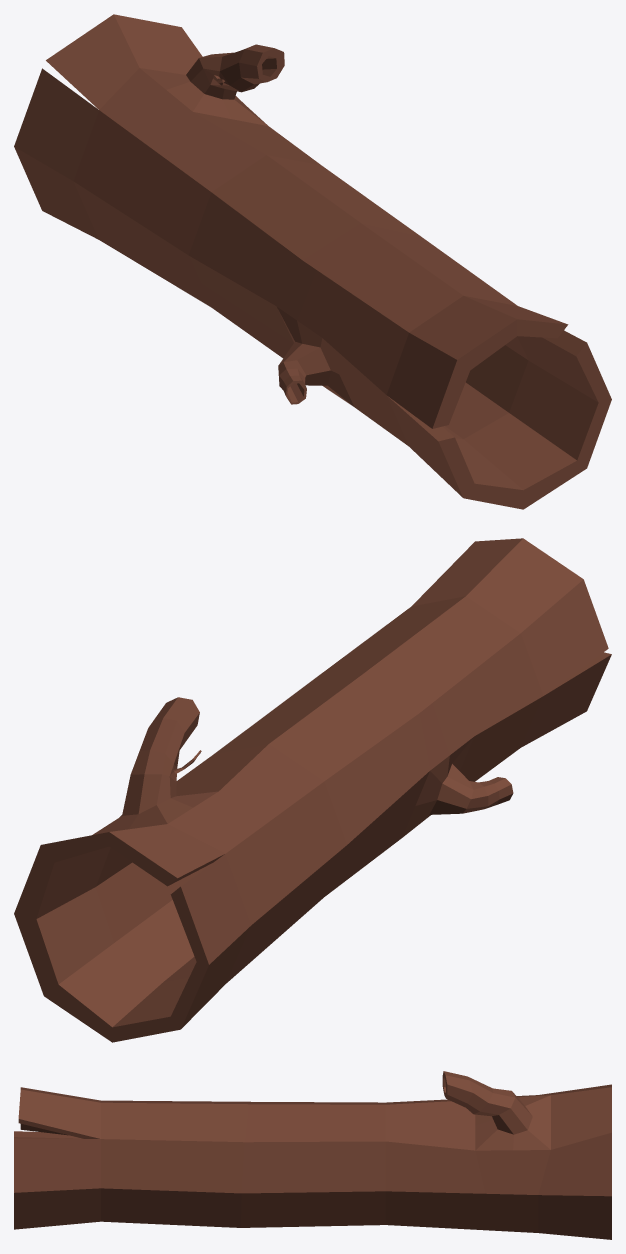
Rendered from Log_01.fbx.
The picture shows the model from 3 angles, top to bottom: view 1: azimuth 30°, elevation 25°; view 2: azimuth 150°, elevation 25°; view 3: azimuth 270°, elevation 25°; orthographic projection. The views are drawn at different scales.
Visible parts, largest first — view 1: Log_01; view 2: Log_01; view 3: Log_01.
Boxes of the visible parts, bbox=[...] form: Log_01: bbox=[14, 14, 611, 509]; Log_01: bbox=[14, 538, 611, 1042]; Log_01: bbox=[14, 1071, 611, 1239].
Bounding box in the file's own units: 2.43 × 2.75 × 8.29.
Materials: 1 (1 with a texture image).
